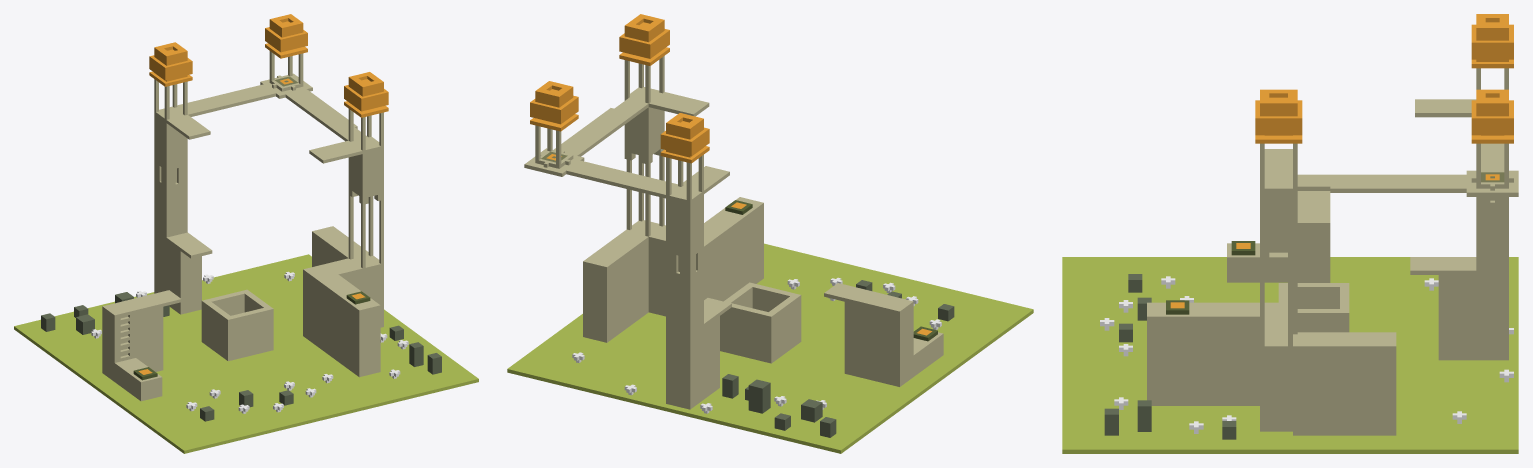
File: monu9-illusion.dae
3 renders of one model, left to right at view 1: azimuth 30°, elevation 25°; view 2: azimuth 150°, elevation 25°; view 3: azimuth 270°, elevation 25°, orthographic. The views are drawn at different scales.
Parts seen in each view (by area): view 1: defaultobject; view 2: defaultobject; view 3: defaultobject.
Part boxes in pixels (left/top/right/bottom): defaultobject: left=14, top=14, right=478, bottom=453; defaultobject: left=507, top=14, right=1033, bottom=453; defaultobject: left=1062, top=14, right=1518, bottom=453.
Size of the model in its own units: 97 by 79 by 97.
Materials: 1 (1 with a texture image).
